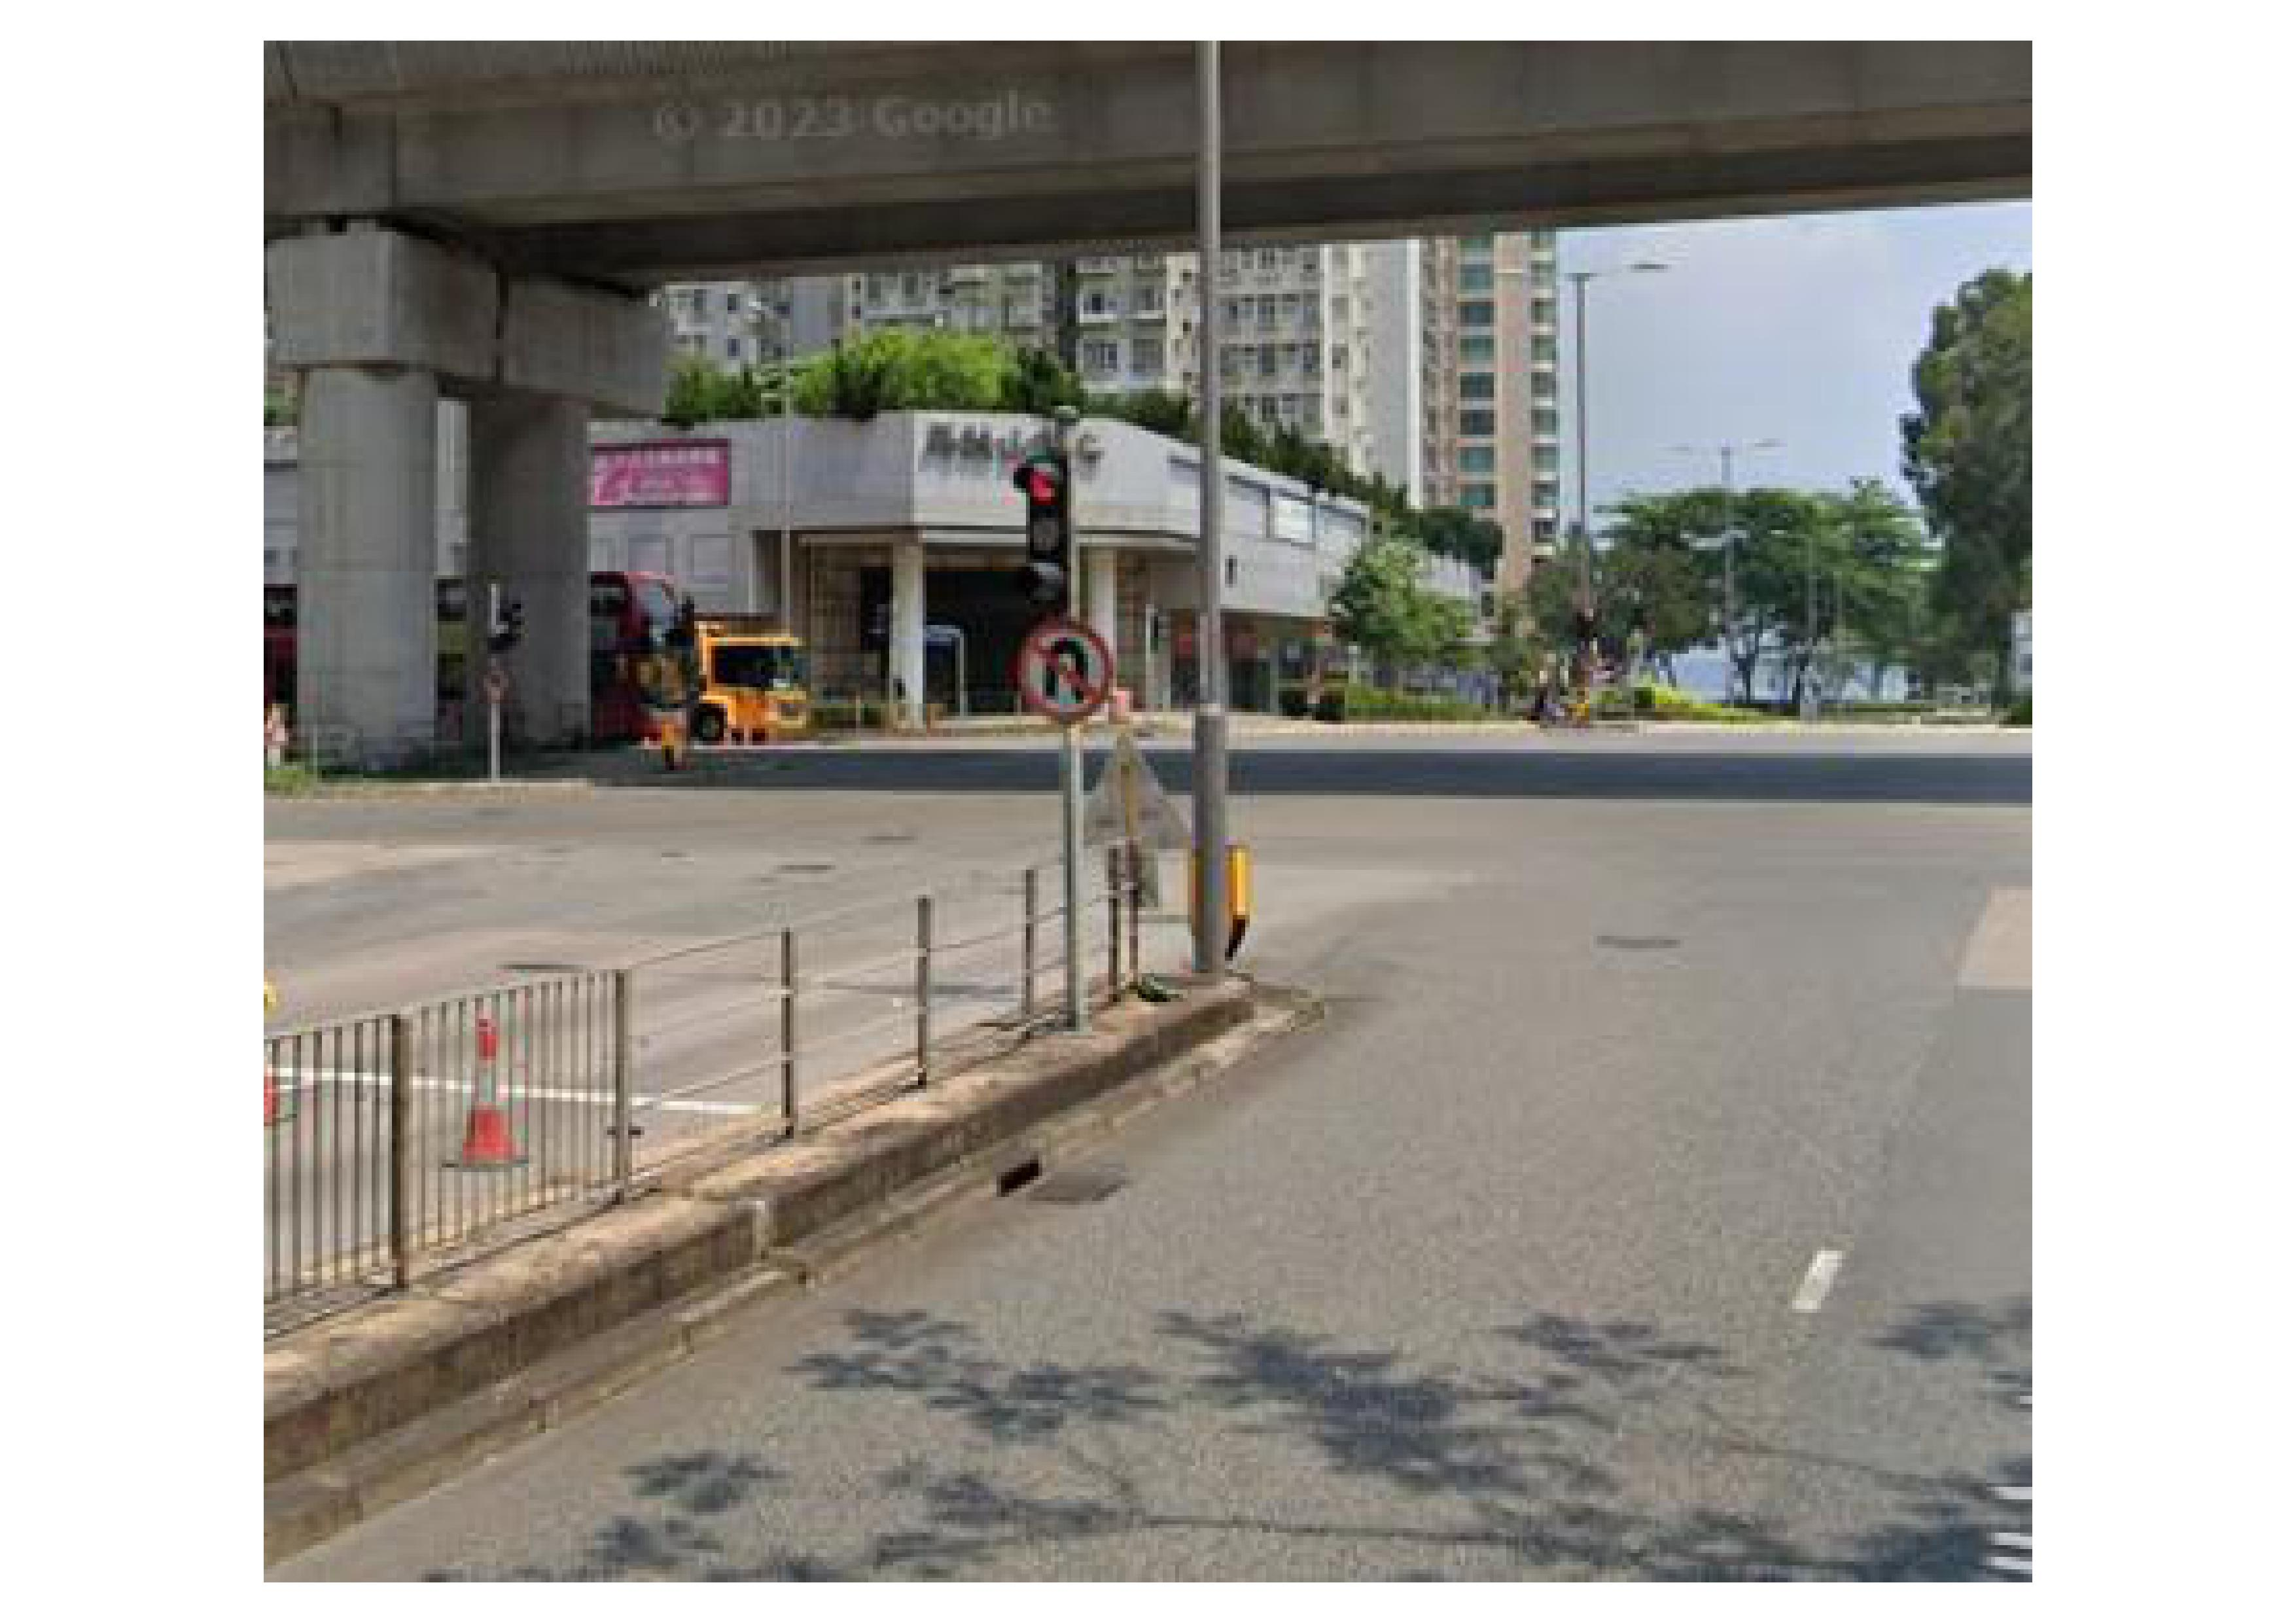No Uturn: (1006, 625, 1116, 718)
